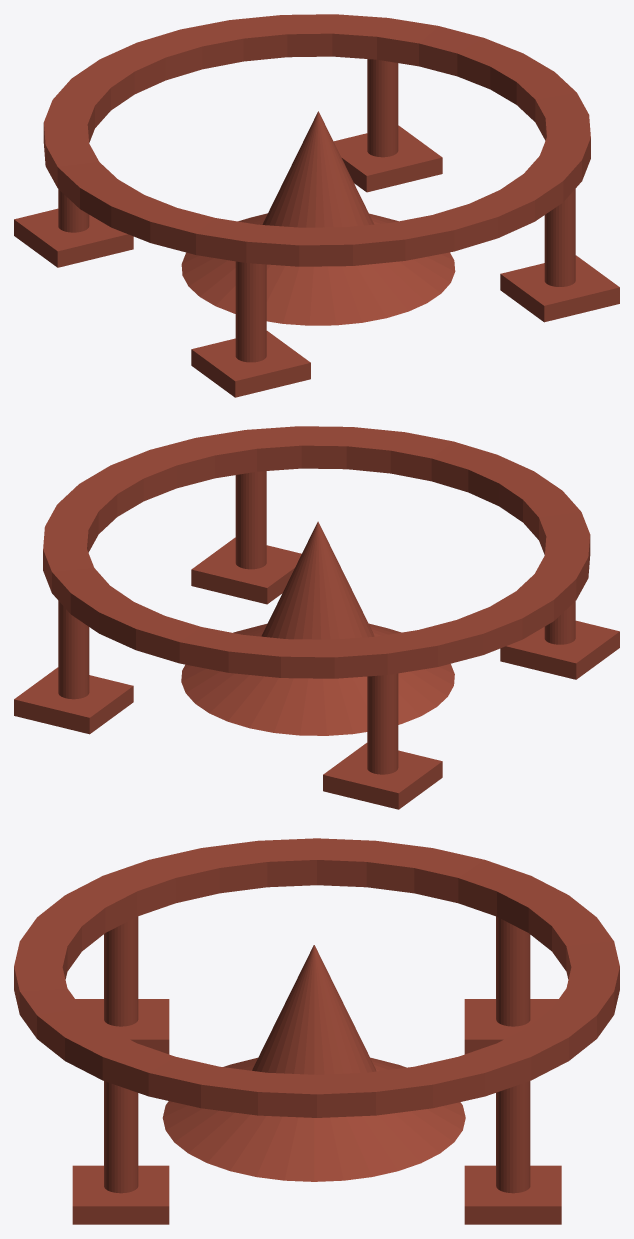
The model's file is start.obj.
The picture shows the model from 3 angles, top to bottom: view 1: azimuth 30°, elevation 25°; view 2: azimuth 150°, elevation 25°; view 3: azimuth 270°, elevation 25°; orthographic projection. The views are drawn at different scales.
Visible parts, largest first — view 1: Cylinder.003; view 2: Cylinder.003; view 3: Cylinder.003.
Boxes of the visible parts, bbox=[...] form: Cylinder.003: bbox=[14, 14, 619, 397]; Cylinder.003: bbox=[14, 426, 619, 809]; Cylinder.003: bbox=[14, 838, 619, 1224].
Bounding box in the file's own units: 4 × 1.28 × 4.
Materials: 1 (1 with a texture image).
